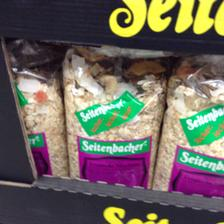Cerealien: (61, 50, 165, 187), (154, 66, 222, 198)
